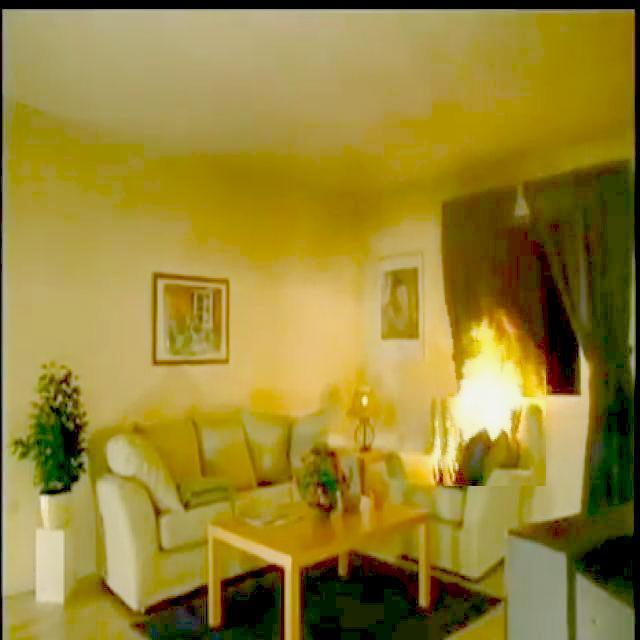smoke: (426, 298, 546, 486)
